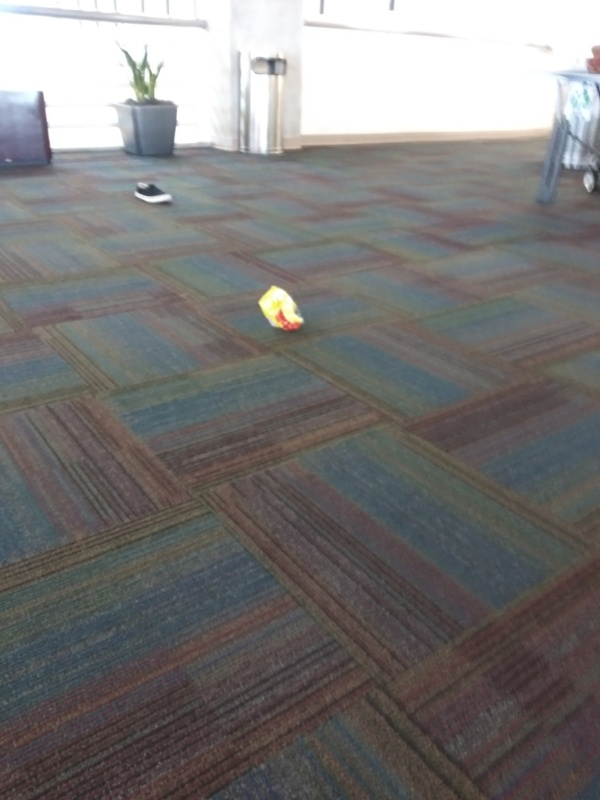bag: (250, 278, 308, 332)
